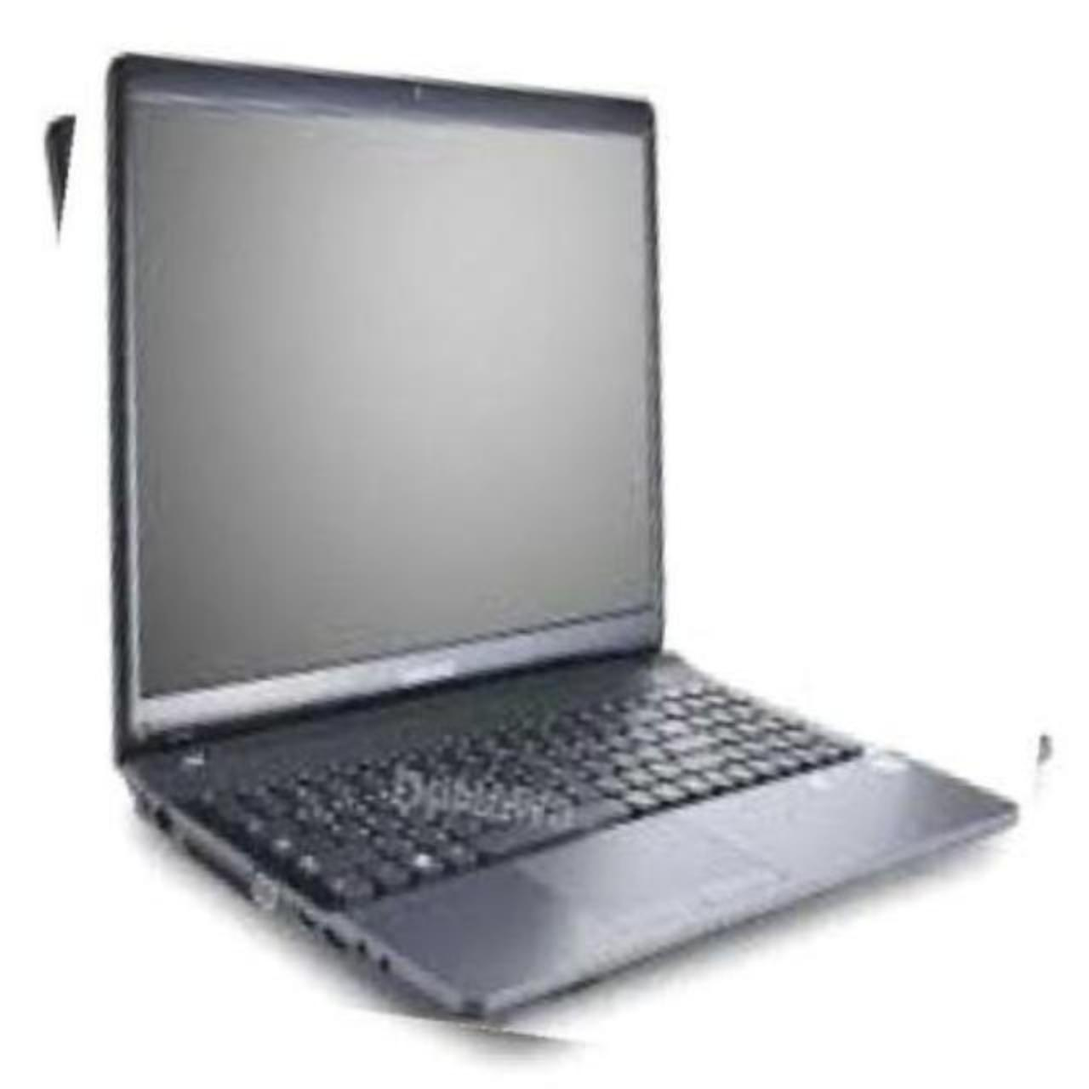laptop: (0, 42, 1089, 1064)
